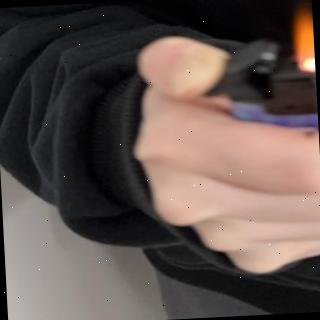fire: (291, 3, 316, 74)
